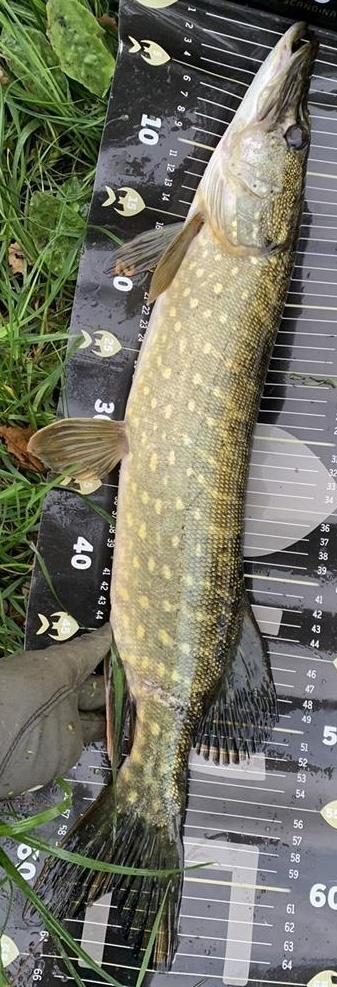Esox lucius: (20, 20, 317, 972)
